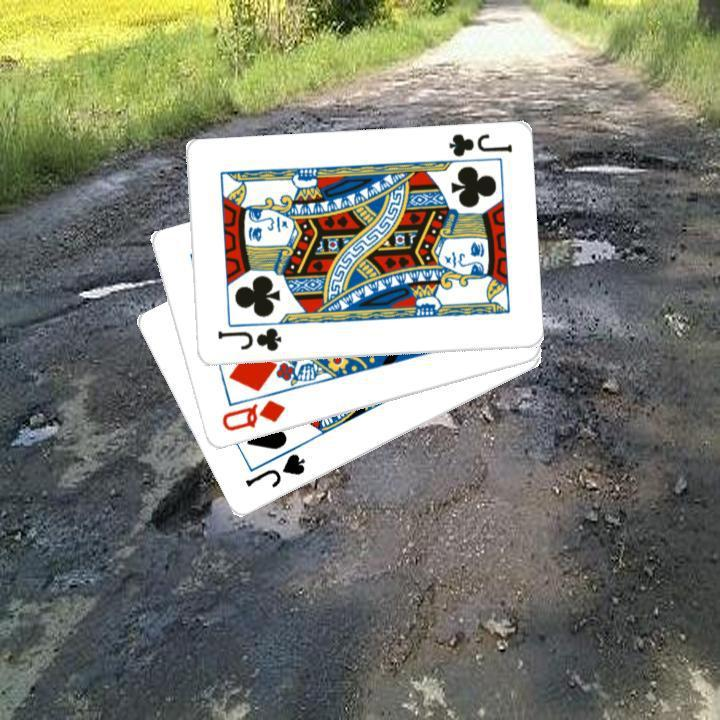J: (240, 449, 307, 491), (212, 324, 283, 354), (444, 129, 513, 159)
Q: (217, 396, 287, 434)
